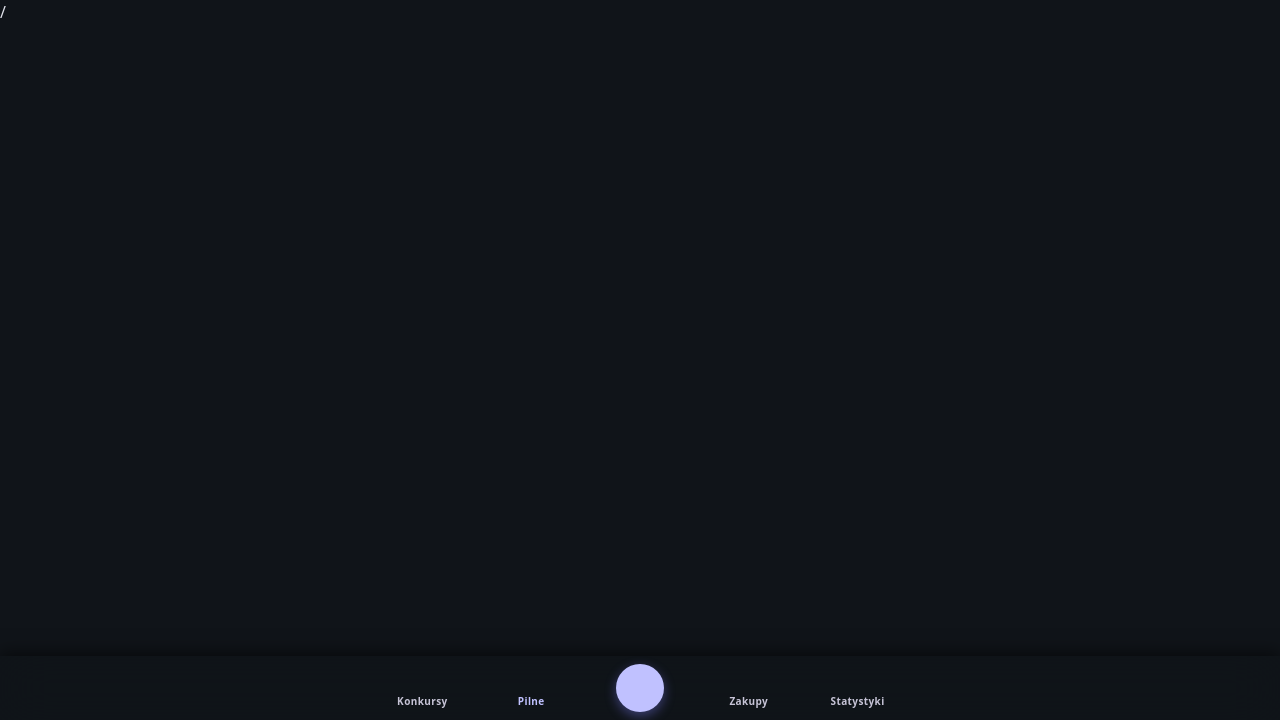
BottomNav › add sheet → new entry picker lists only open contests sorted by end date
Step 1. Click the button named "Dodaj konkurs lub zgłoszenie" → (640, 688), box [616,664,664,712]
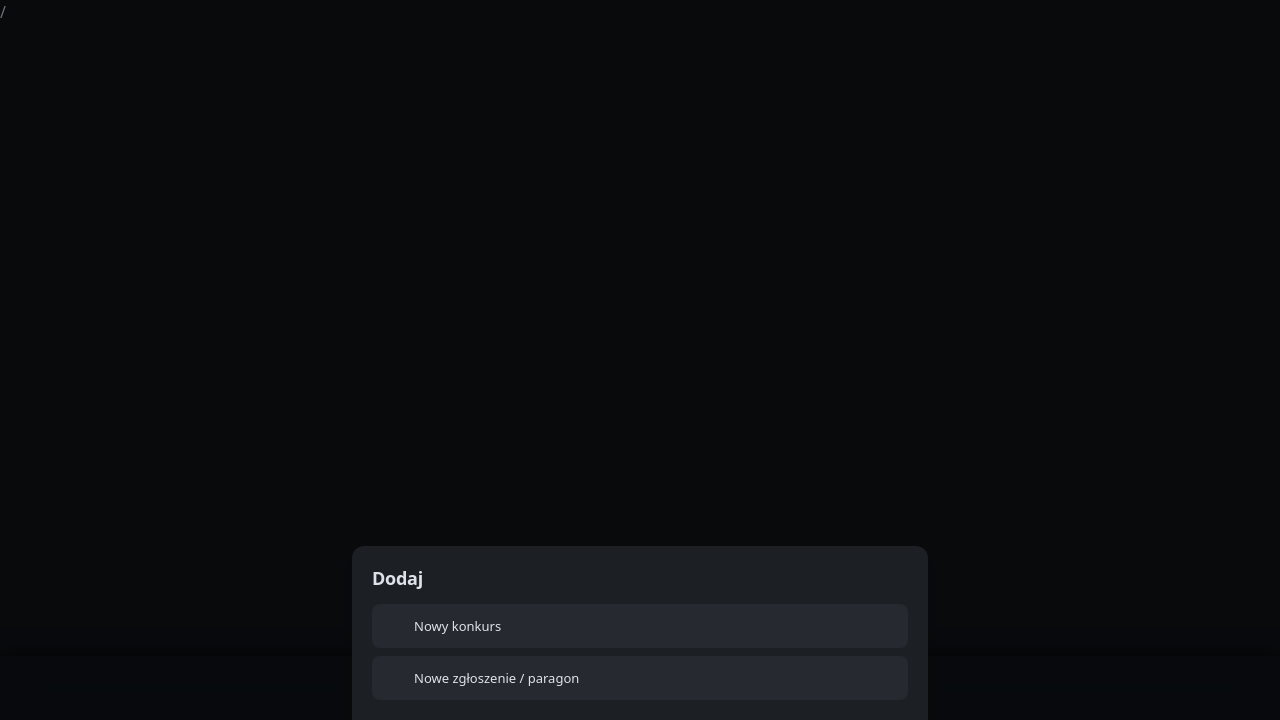
Step 2. Click the button "Nowe zgłoszenie / paragon" → (497, 678), box [372,656,908,700]
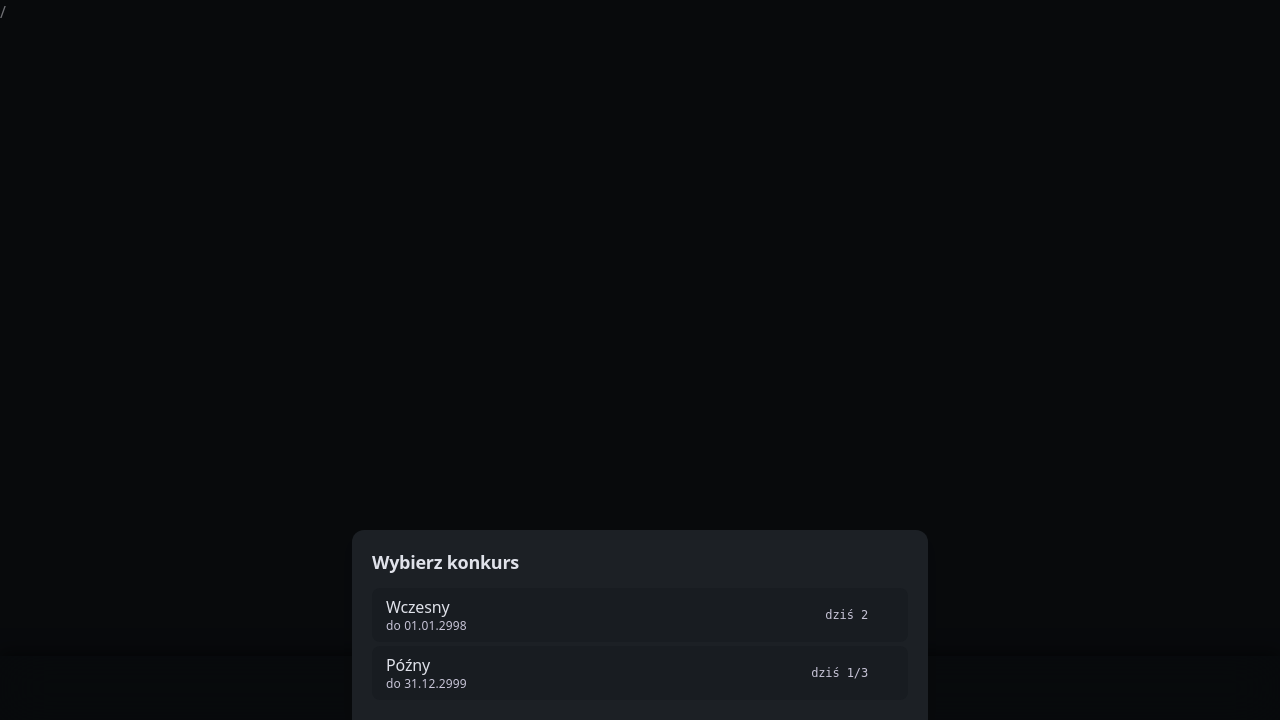
Expected: the number of buttons "Wczesny do 01.01.2998 dziś 2" is 2, [372,588,908,642]; [372,646,908,700]
Expected: the button "Wczesny do 01.01.2998 dziś 2" is shown, [372,588,908,642]
Expected: the button "Późny do 31.12.2999 dziś 1/3" is shown, [372,646,908,700]
